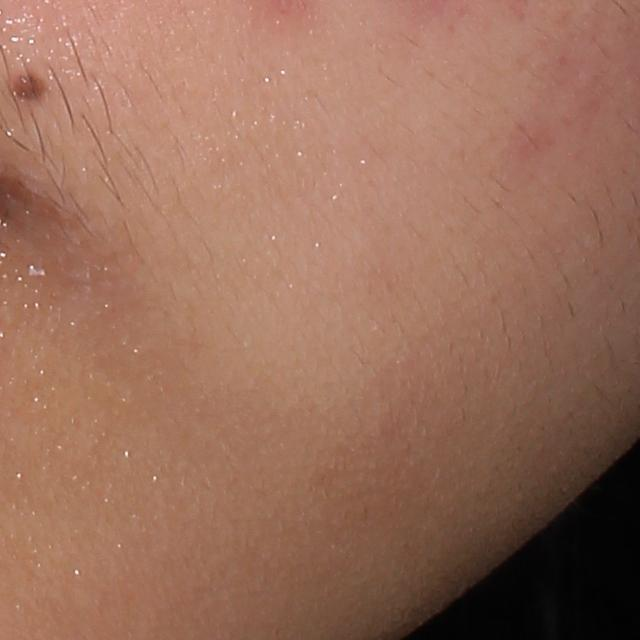nevus: (3, 69, 52, 107)
